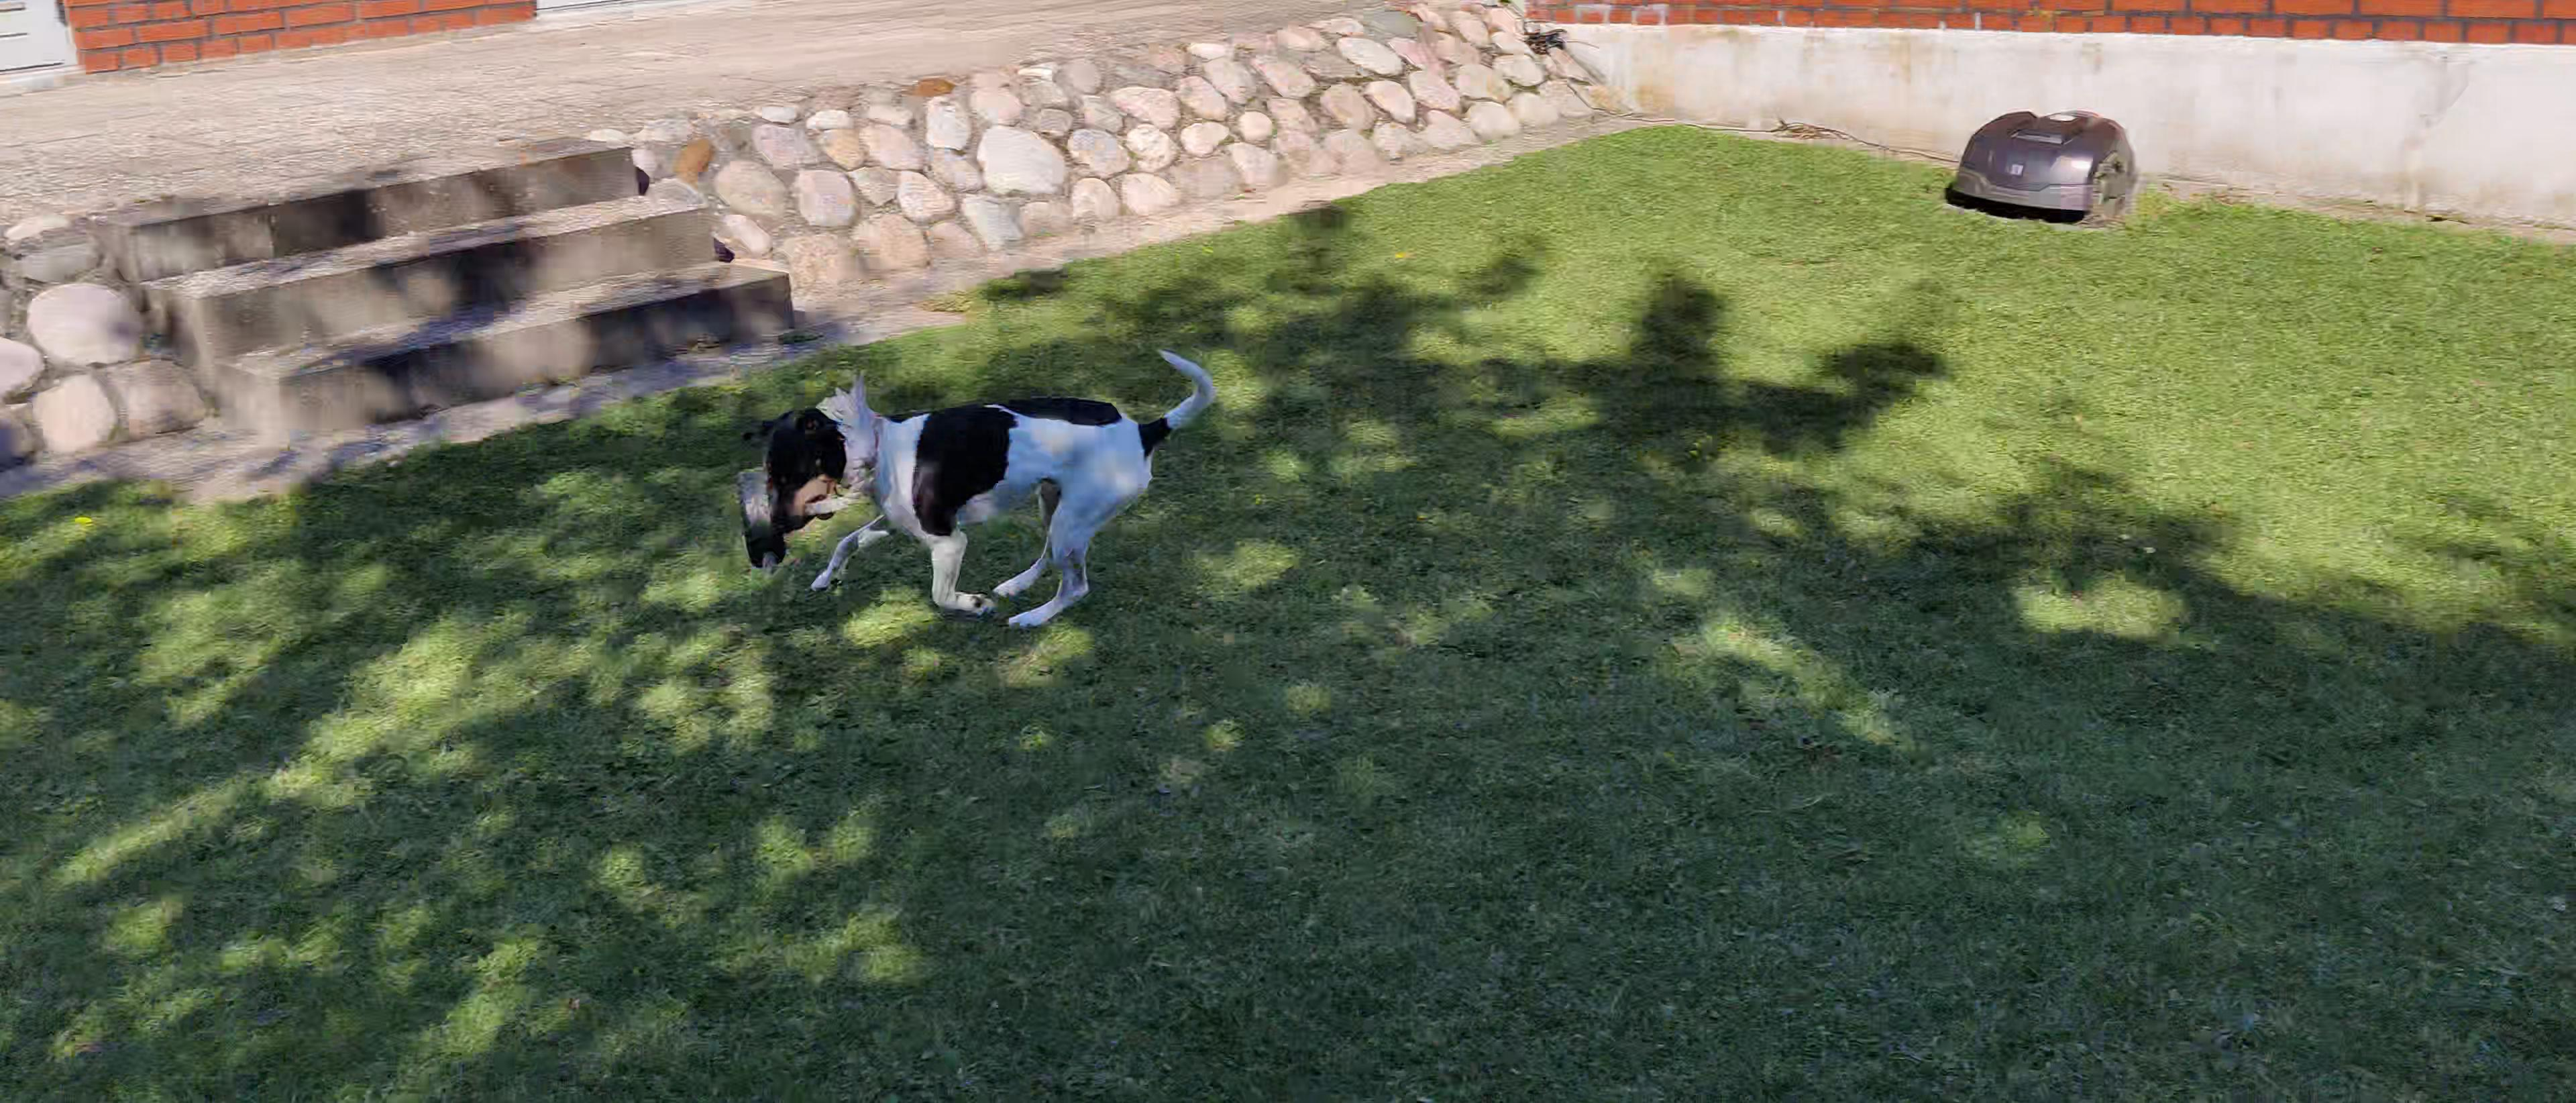Dog: (756, 337, 1227, 644)
